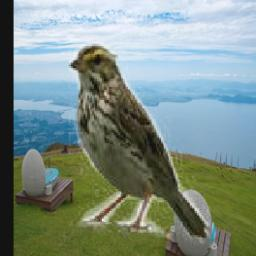Sparrow: (69, 42, 210, 244)
